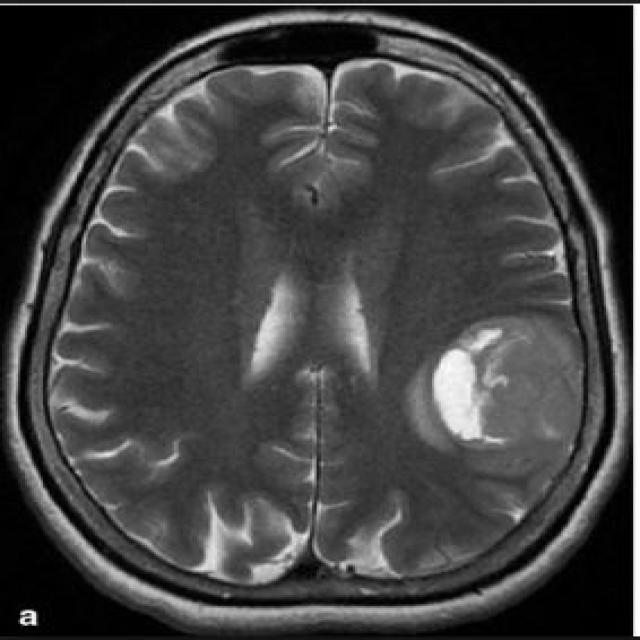Tumor-Cell: (388, 304, 558, 444)
